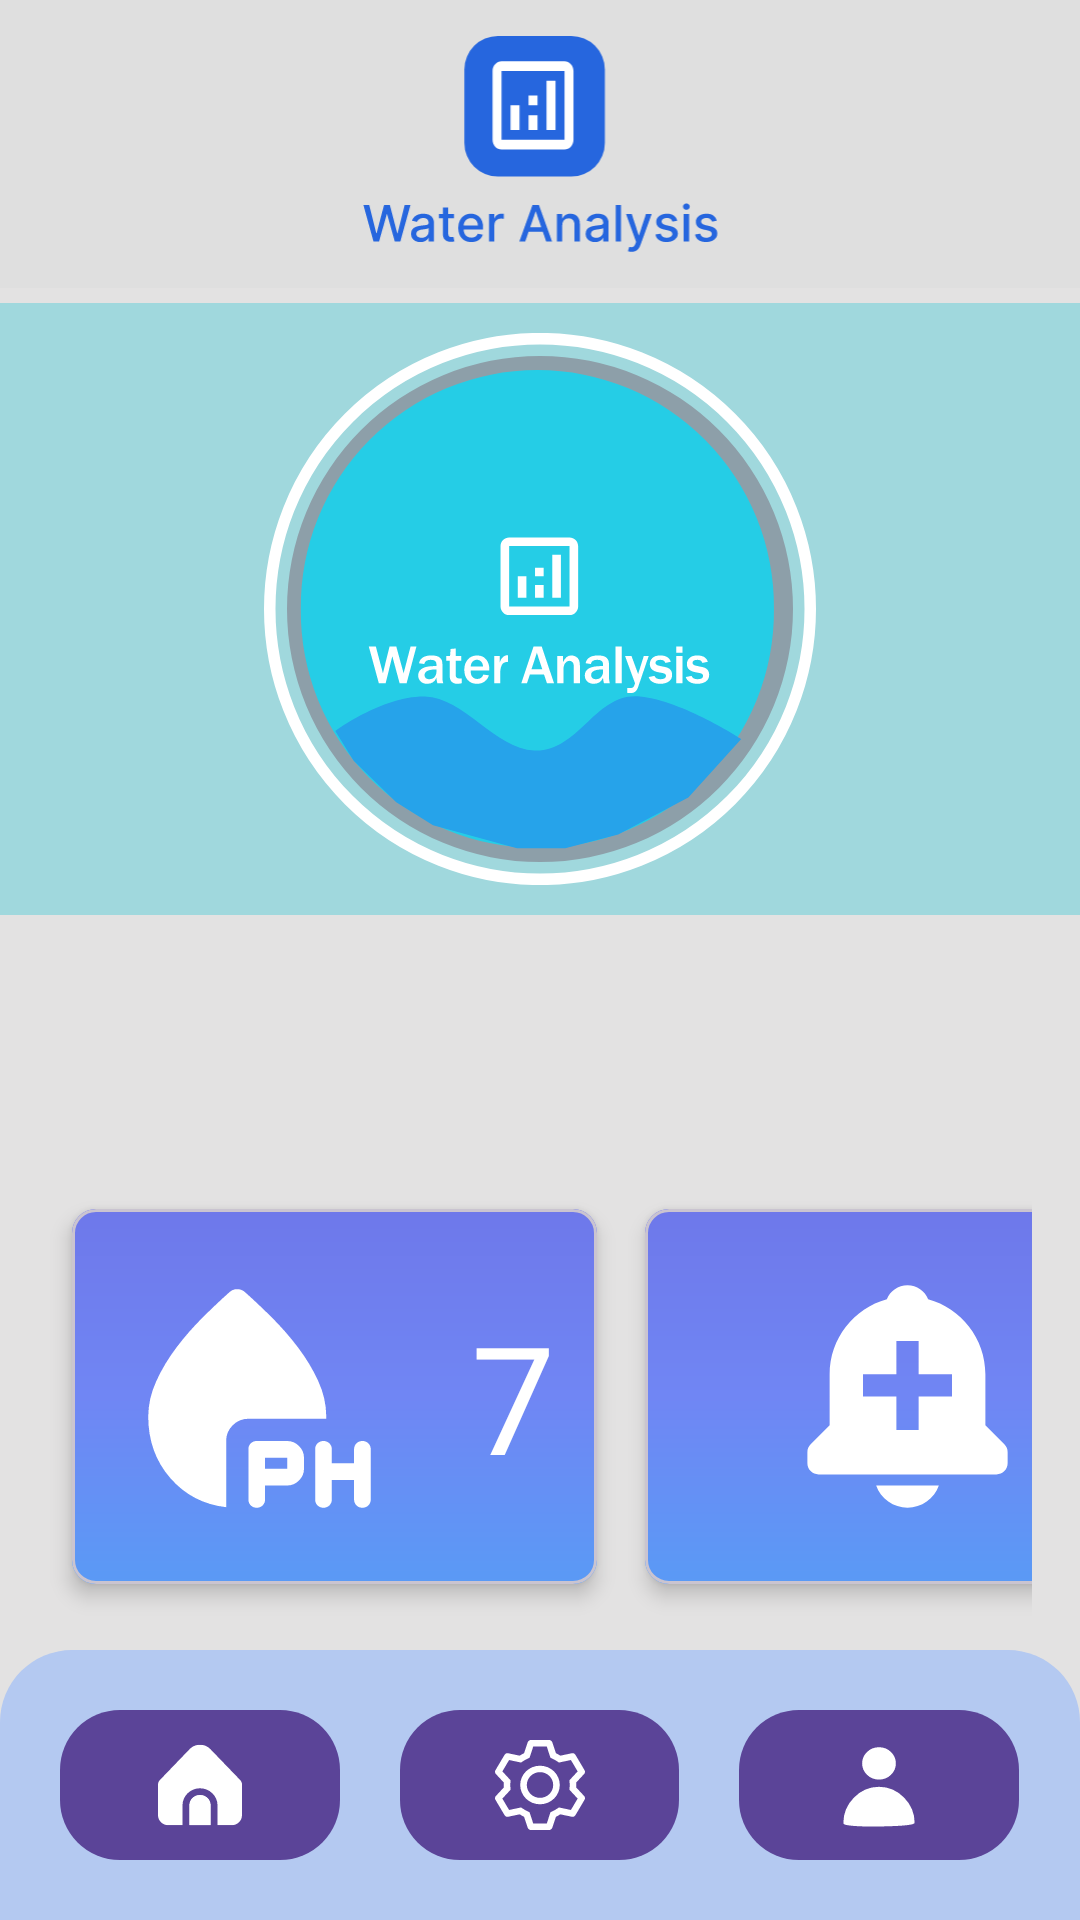

Icon bounding boxes for this 1080x1920 phone screenshot, format (x1, y1, x2, y2):
home: (60, 1710, 340, 1860)
settings: (400, 1710, 679, 1860)
user: (739, 1710, 1019, 1860)
